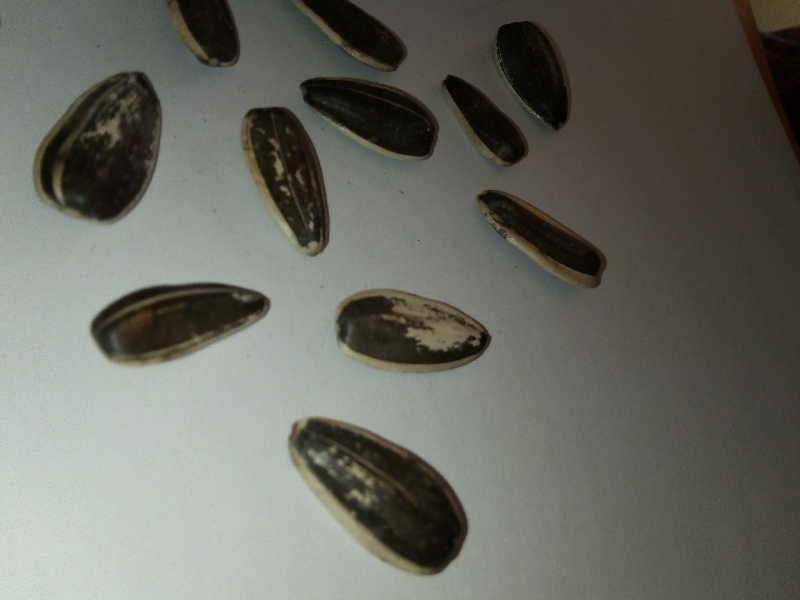w: (266, 408, 497, 585), (33, 64, 178, 229), (82, 268, 282, 378), (318, 281, 514, 384), (470, 183, 617, 304)
